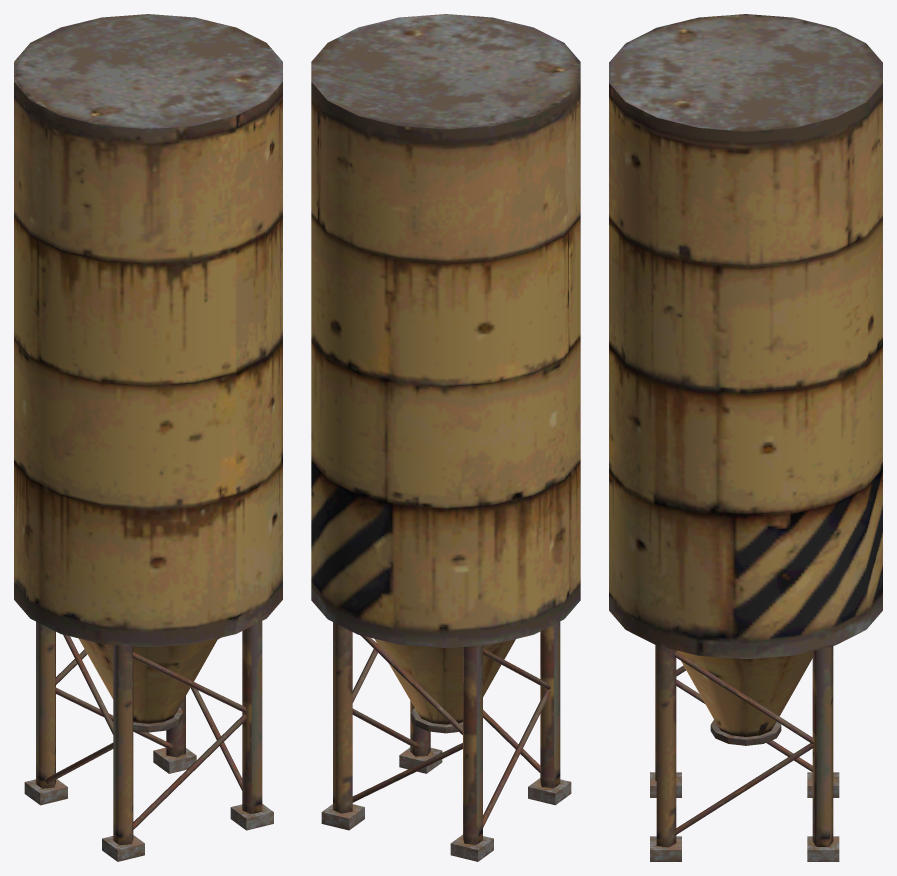
Rendered from LiquidRerservoir1.fbx.
The picture shows the model from 3 angles, left to right: view 1: azimuth 30°, elevation 25°; view 2: azimuth 150°, elevation 25°; view 3: azimuth 270°, elevation 25°; orthographic projection.
Parts seen in each view (by area): view 1: Liquid_reservoir_2; view 2: Liquid_reservoir_2; view 3: Liquid_reservoir_2.
Boxes of the visible parts, bbox=[...] form: Liquid_reservoir_2: bbox=[14, 14, 282, 861]; Liquid_reservoir_2: bbox=[311, 14, 580, 861]; Liquid_reservoir_2: bbox=[609, 14, 882, 861].
Size of the model in its own units: 1.74 by 5.18 by 1.71.
